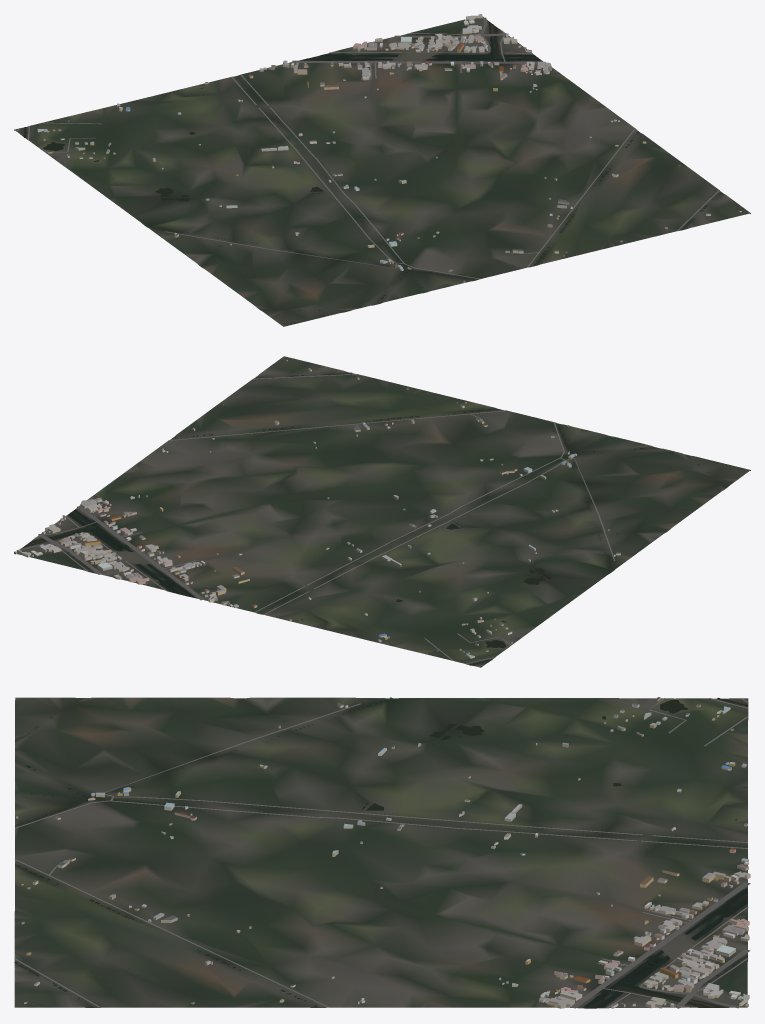
3 views of the same model, one above another, from view 1: azimuth 30°, elevation 25°; view 2: azimuth 150°, elevation 25°; view 3: azimuth 270°, elevation 25° (orthographic). The views are drawn at different scales.
Visible parts, largest first — view 1: ground, buildings, roads, water; view 2: ground, buildings, roads, water; view 3: ground, buildings, roads, water.
Boxes of the visible parts, x1,y1,x2,y2 form: ground: [14, 17, 750, 326]; buildings: [37, 14, 741, 282]; roads: [16, 17, 719, 279]; water: [24, 21, 721, 311]; ground: [14, 356, 750, 667]; buildings: [14, 359, 620, 658]; roads: [16, 374, 615, 666]; water: [23, 372, 721, 665]; ground: [14, 697, 748, 1008]; buildings: [16, 697, 750, 1008]; roads: [14, 698, 750, 1008]; water: [14, 697, 748, 1008].
Bounding box in the file's own units: 1409 × 18.48 × 1408.
